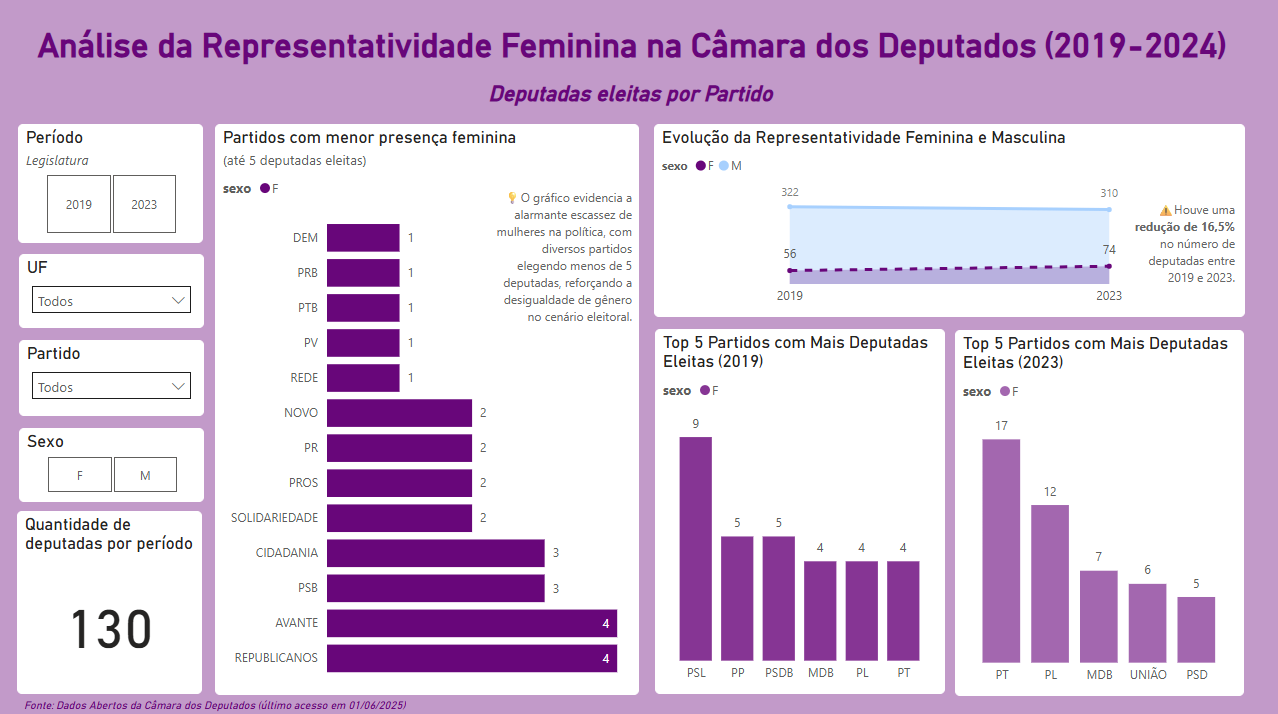

The page's visual inventory and layout, read from the dashboard file:
{"tool":"powerbi","page":{"name":"2. Partidos","canvas":[1280,720],"ordinal":1},"visuals":[{"type":"barChart","title":"Partidos com menor presença feminina","fields":{"Category":["deputadas.siglaPartido"],"Y":["CountNonNull(deputadas.id)"],"Series":["deputadas.sexo"]},"box":[216.4,123.9,423.6,570.9],"z":0},{"type":"areaChart","title":"Evolução da Representatividade Feminina e Masculina","fields":{"Category":["deputadas.anoLegislatura"],"Series":["deputadas.sexo"],"Y":["CountNonNull(deputadas.id)"]},"box":[655.2,123.9,591.2,193],"z":1000},{"type":"clusteredColumnChart","title":"Top 5 Partidos com Mais Deputadas Eleitas","fields":{"Y":["Count(deputadas.id)"],"Series":["deputadas.siglaPartido"],"Category":["deputadas.anoInicioLegislatura"]},"box":[655.2,329.1,591.2,365.7],"z":2000},{"type":"slicer","title":"UF","fields":{"Values":["deputadas.siglaUf"]},"box":[19.3,447,184.9,74.2],"z":3000},{"type":"slicer","title":"Sexo","fields":{"Values":["deputadas.sexo"]},"box":[19.3,620.7,184.9,74.2],"z":4000},{"type":"slicer","title":"Período","fields":{"Values":["deputadas.anoInicioLegislatura"]},"box":[19.3,123.9,184.9,118.9],"z":5000},{"type":"slicer","title":"Partido","fields":{"Values":["deputadas.siglaPartido"]},"box":[19.3,533.3,184.9,75.2],"z":6000},{"type":"card","title":"Quantidade de deputadas por período","fields":{"Values":["CountNonNull(deputadas.id)"]},"box":[19.3,255,184.9,182.9],"z":7000},{"type":"card","title":"Análise da Igualdade de Gênero na Câmara dos Deputados","fields":{"Values":["Min(TituloPagina.Titulo)"]},"box":[19.3,11.2,1227.2,63],"z":8000},{"type":"card","title":"Análise da Igualdade de Gênero na Câmara dos Deputados","fields":{"Values":["Min(TituloPagina.Subtitulo2)"]},"box":[18.3,74.2,1227.2,36.6],"z":9000},{"type":"textbox","box":[1124.5,195.3,116.9,114.4],"z":10000},{"type":"textbox","box":[19,688.3,1228.7,31.7],"z":11000},{"type":"textbox","box":[487,183.2,151.4,163.2],"z":12000}]}

Visuals, with their boxes in screenshot pixels (x1, y1, x2, y2), scaled from the page's 1280x720 canvas onto the 1278x714 screenshot:
"Partidos com menor presença feminina" barChart: (216,123,639,689)
"Evolução da Representatividade Feminina e Masculina" areaChart: (654,123,1244,314)
"Top 5 Partidos com Mais Deputadas Eleitas" clusteredColumnChart: (654,326,1244,689)
"UF" slicer: (19,443,204,517)
"Sexo" slicer: (19,616,204,689)
"Período" slicer: (19,123,204,241)
"Partido" slicer: (19,529,204,603)
"Quantidade de deputadas por período" card: (19,253,204,434)
"Análise da Igualdade de Gênero na Câmara dos Deputados" card: (19,11,1245,74)
"Análise da Igualdade de Gênero na Câmara dos Deputados" card: (18,74,1244,110)
textbox: (1123,194,1239,307)
textbox: (19,683,1246,713)
textbox: (486,182,637,344)
